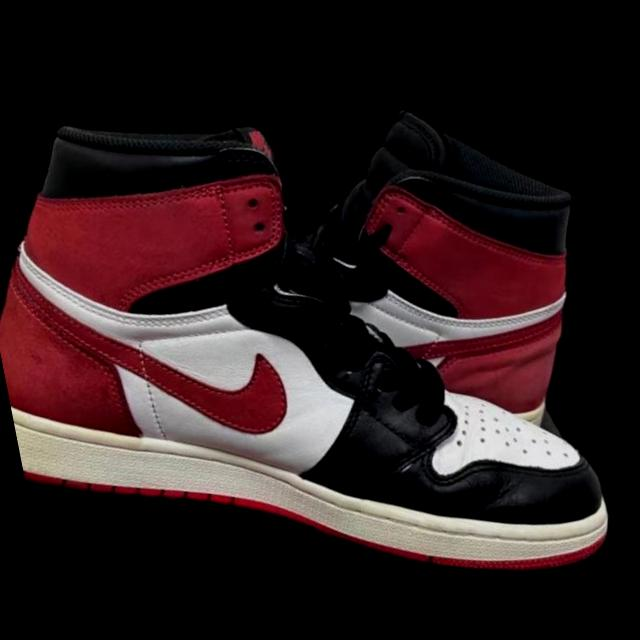nike_original_jordan: (0, 0, 640, 640), (227, 30, 640, 475)
